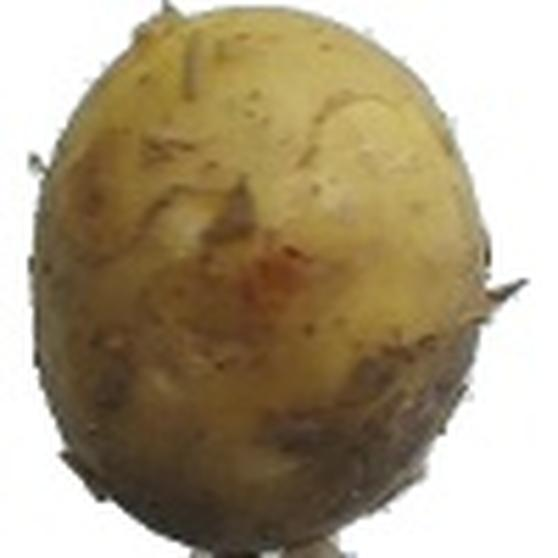potato: (29, 3, 493, 554)
